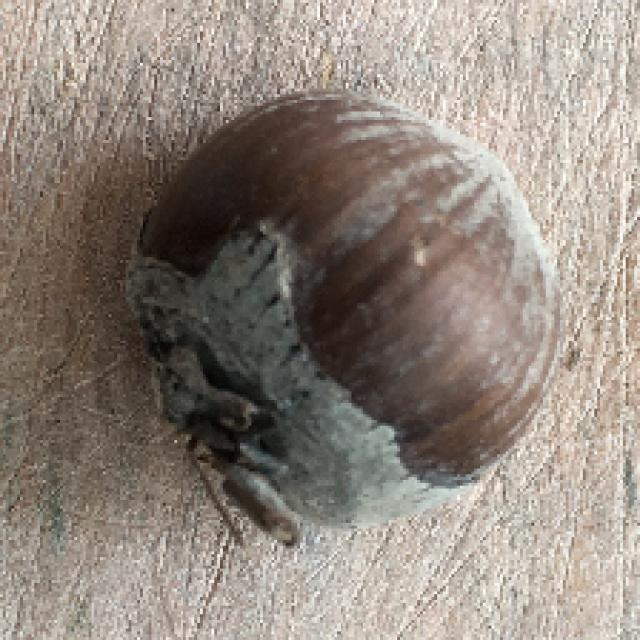DamagedHazelnut: (130, 94, 570, 537)
